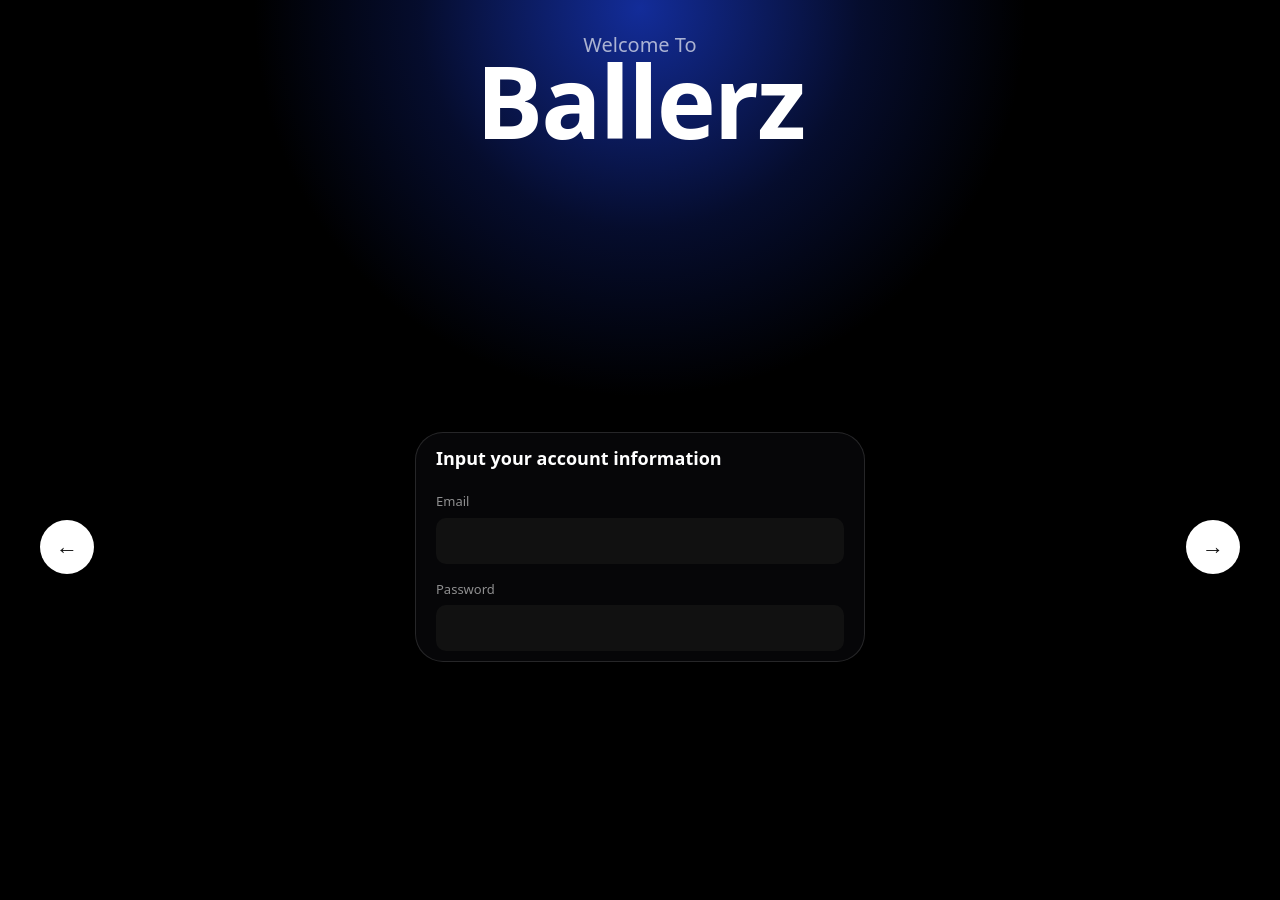
LoginFormPage › shows a validation error when fields are empty and login is clicked
// Dummy: no input is provided — fields stay empty
Click the button named "Log in": [1213, 547] box [1186,520,1240,574]
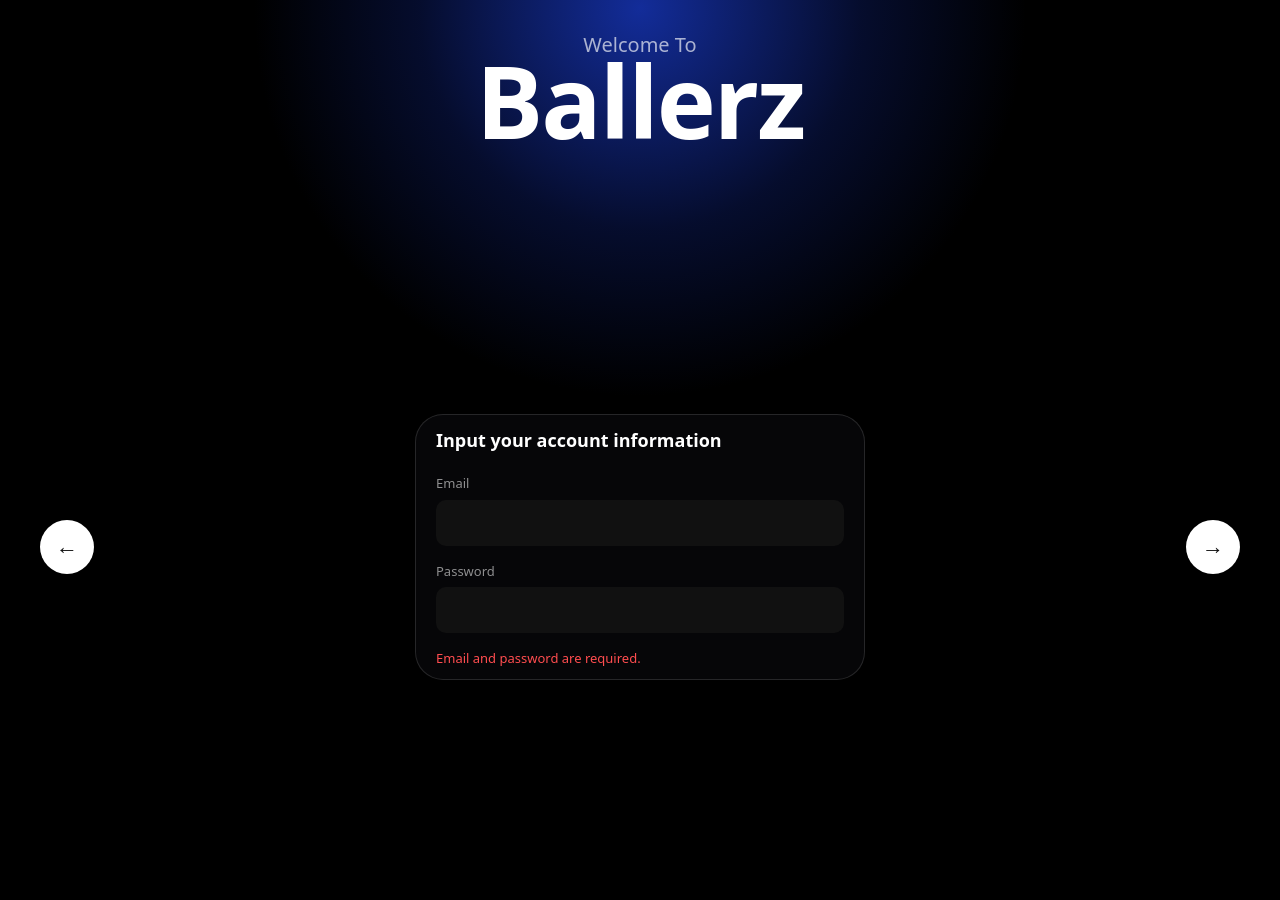
Check: the text "Email and password are required." is shown, box [436,649,641,667]
